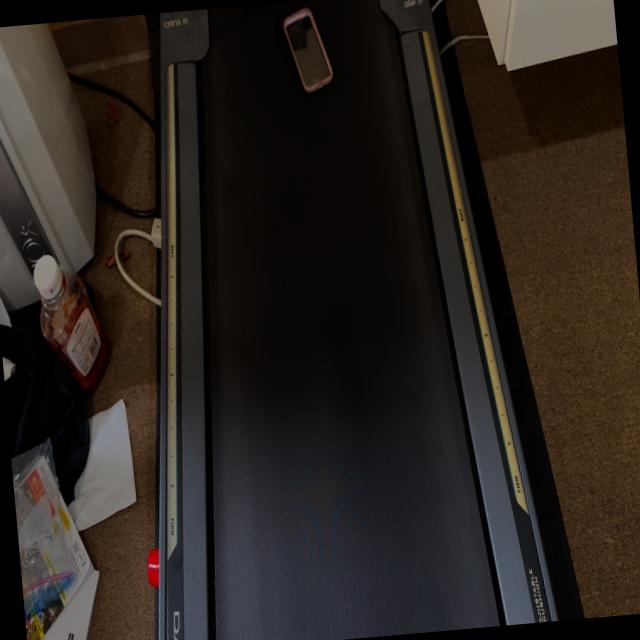Trash: (278, 6, 338, 100)
